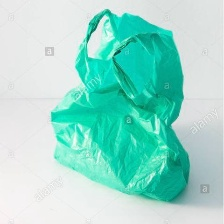plastic_bag: (48, 6, 193, 203)
